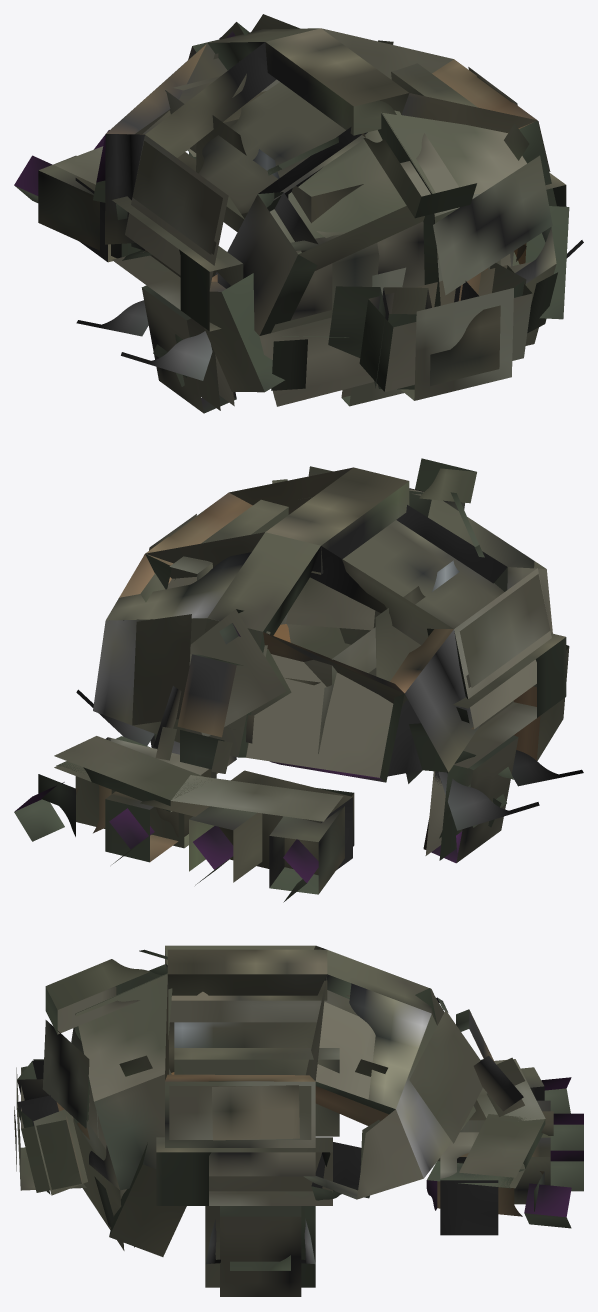
Rendered from us_veteran_h.obj.
3 views of the same model, one above another, from view 1: azimuth 30°, elevation 25°; view 2: azimuth 150°, elevation 25°; view 3: azimuth 270°, elevation 25° (orthographic). The views are drawn at different scales.
Parts seen in each view (by area): view 1: plane; view 2: plane; view 3: plane.
Part boxes in pixels (x1,y1,x2,y2): plane: [14, 14, 583, 413]; plane: [14, 458, 583, 902]; plane: [14, 945, 583, 1296].
Bounding box in the file's own units: 1.04 × 0.7237 × 1.23.
